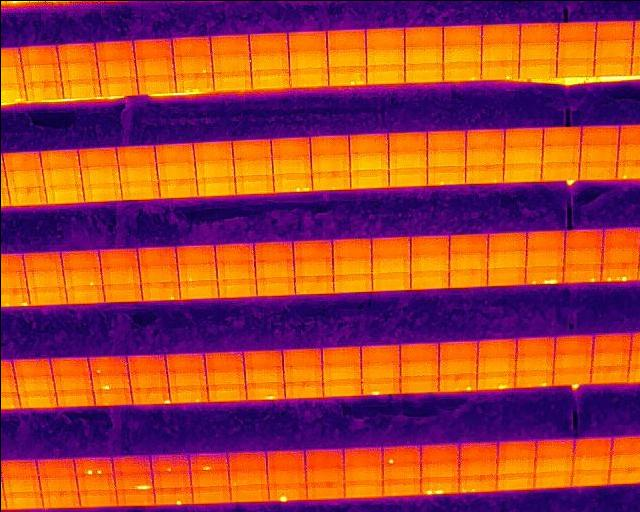Cell: (480, 59, 519, 79), (311, 171, 350, 190), (173, 55, 212, 74), (141, 281, 180, 300), (381, 445, 421, 463), (188, 453, 228, 471), (465, 165, 504, 183), (150, 453, 189, 471), (442, 61, 481, 79), (177, 263, 216, 281), (562, 264, 601, 282), (88, 356, 128, 373), (63, 268, 101, 285), (360, 377, 400, 393), (268, 483, 305, 500), (91, 374, 130, 390), (131, 387, 170, 403), (514, 370, 551, 386), (154, 488, 191, 504), (170, 387, 208, 402)
Cell-Multi: (418, 476, 458, 494), (426, 166, 465, 184), (174, 73, 213, 91), (273, 173, 311, 191), (327, 66, 365, 84), (73, 457, 113, 474), (600, 263, 639, 280), (437, 374, 476, 390), (458, 475, 495, 491)
No-Anomaly: (154, 142, 194, 164), (156, 160, 195, 181), (288, 49, 327, 70), (387, 132, 427, 152), (175, 244, 215, 264), (196, 175, 234, 196), (349, 133, 388, 153), (117, 163, 156, 183), (563, 229, 602, 249), (365, 64, 404, 84), (249, 50, 288, 70), (288, 66, 327, 86), (249, 68, 288, 88), (441, 25, 480, 45), (556, 21, 595, 41), (6, 169, 44, 189), (231, 139, 271, 158), (504, 128, 542, 148), (541, 144, 579, 164), (349, 152, 389, 171), (117, 144, 155, 164), (195, 159, 233, 179), (81, 164, 119, 184), (133, 38, 171, 58), (119, 180, 157, 200), (158, 178, 196, 198), (579, 125, 619, 144), (43, 184, 83, 203), (525, 230, 563, 250), (248, 32, 288, 51), (172, 36, 210, 56), (403, 45, 443, 64), (442, 43, 480, 63), (21, 63, 59, 83), (136, 74, 174, 94), (213, 71, 251, 91), (371, 271, 409, 291), (402, 26, 442, 45), (350, 170, 389, 189), (270, 138, 309, 157), (309, 135, 348, 154), (387, 168, 426, 187), (426, 149, 465, 168), (542, 127, 581, 146), (534, 438, 573, 457), (457, 440, 496, 459), (343, 446, 382, 465), (343, 463, 382, 482), (555, 40, 594, 59), (517, 59, 556, 78), (404, 63, 443, 82), (555, 58, 594, 77), (97, 59, 136, 78), (409, 269, 448, 288), (254, 257, 293, 276), (485, 266, 524, 285), (594, 20, 633, 39), (178, 280, 217, 299), (294, 274, 333, 293), (481, 24, 520, 43), (363, 27, 402, 46), (164, 353, 205, 371), (126, 355, 167, 373), (49, 357, 90, 375), (594, 39, 632, 58), (235, 175, 273, 194), (194, 140, 232, 159), (78, 147, 116, 166), (3, 151, 41, 170), (41, 149, 79, 168), (82, 183, 120, 202), (487, 230, 525, 249), (210, 35, 248, 54), (94, 40, 132, 59), (61, 249, 99, 268), (211, 53, 249, 72), (59, 61, 97, 80), (410, 252, 448, 271), (13, 357, 51, 376), (464, 148, 504, 166), (326, 30, 366, 48), (486, 249, 526, 267), (293, 256, 333, 274), (215, 261, 255, 279), (216, 278, 256, 296), (8, 185, 45, 204), (19, 45, 56, 64), (99, 77, 136, 96), (256, 276, 293, 295), (520, 23, 557, 42), (426, 131, 465, 149), (309, 154, 348, 172), (503, 145, 542, 163), (579, 143, 618, 161), (388, 151, 427, 169), (42, 166, 81, 184), (502, 164, 541, 182), (293, 239, 332, 257), (371, 237, 410, 255), (600, 246, 639, 264), (447, 250, 486, 268), (56, 43, 95, 61), (365, 46, 404, 64), (23, 81, 62, 99), (515, 336, 554, 354), (22, 252, 61, 270), (103, 283, 142, 301), (243, 350, 282, 368), (136, 246, 177, 263), (272, 155, 310, 173), (234, 158, 272, 176), (540, 161, 578, 179), (602, 228, 640, 246), (449, 232, 487, 250), (288, 31, 326, 49), (227, 452, 265, 470), (229, 483, 267, 501), (518, 41, 556, 59), (481, 43, 519, 61), (135, 57, 173, 75), (62, 80, 100, 98), (554, 334, 592, 352), (332, 256, 370, 274), (139, 263, 177, 281), (448, 268, 486, 286), (333, 274, 371, 292), (65, 285, 103, 303), (477, 339, 515, 357), (577, 161, 617, 178), (253, 241, 293, 258), (214, 243, 254, 260), (17, 391, 57, 408), (35, 458, 75, 475), (303, 449, 343, 466), (190, 485, 230, 502), (100, 266, 140, 283), (24, 269, 64, 286), (281, 349, 321, 366), (497, 439, 534, 457), (421, 442, 458, 460), (593, 334, 630, 352), (29, 286, 66, 304), (332, 239, 371, 256), (457, 459, 496, 476), (562, 248, 601, 265), (207, 384, 246, 401), (115, 488, 154, 505), (438, 342, 477, 359), (38, 474, 77, 491), (204, 352, 243, 369), (322, 364, 361, 381), (399, 360, 438, 377), (78, 490, 119, 506), (1, 458, 37, 476), (382, 462, 420, 479), (465, 131, 503, 148), (410, 235, 448, 252), (265, 452, 303, 469), (495, 457, 533, 474), (382, 478, 420, 495), (304, 482, 342, 499), (327, 49, 365, 66), (1, 476, 39, 493), (400, 344, 438, 361), (99, 248, 137, 265), (128, 372, 168, 388), (15, 376, 55, 392), (533, 457, 573, 473), (282, 366, 322, 382), (359, 362, 399, 378), (570, 469, 607, 486), (594, 57, 631, 74), (420, 461, 459, 477), (54, 390, 93, 406), (284, 382, 323, 398), (93, 389, 132, 405), (304, 465, 343, 481), (228, 470, 267, 486), (189, 470, 228, 486), (343, 481, 382, 497), (41, 491, 80, 507), (361, 346, 400, 362), (514, 354, 553, 370), (322, 347, 361, 363), (437, 358, 476, 374), (204, 371, 245, 386), (399, 376, 437, 392), (266, 469, 304, 485), (77, 474, 115, 490), (553, 353, 591, 369), (525, 249, 563, 265), (52, 375, 92, 390), (152, 471, 189, 487), (573, 454, 610, 470), (592, 352, 629, 368), (167, 372, 206, 387), (112, 455, 151, 470), (370, 256, 409, 271), (574, 437, 610, 453), (495, 474, 533, 489), (551, 369, 589, 384), (590, 368, 628, 383), (2, 492, 42, 506), (533, 473, 570, 488), (323, 380, 360, 395), (245, 368, 283, 382), (476, 358, 514, 372), (610, 436, 640, 453), (607, 469, 640, 484), (609, 453, 640, 468)
Unclassified: (524, 265, 562, 284), (114, 471, 152, 489), (246, 383, 285, 400), (476, 373, 514, 390)
